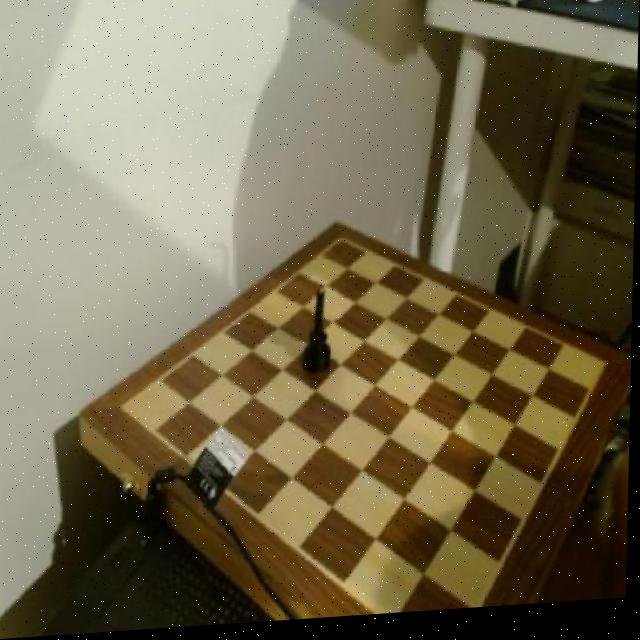black-king: (295, 291, 339, 390)
